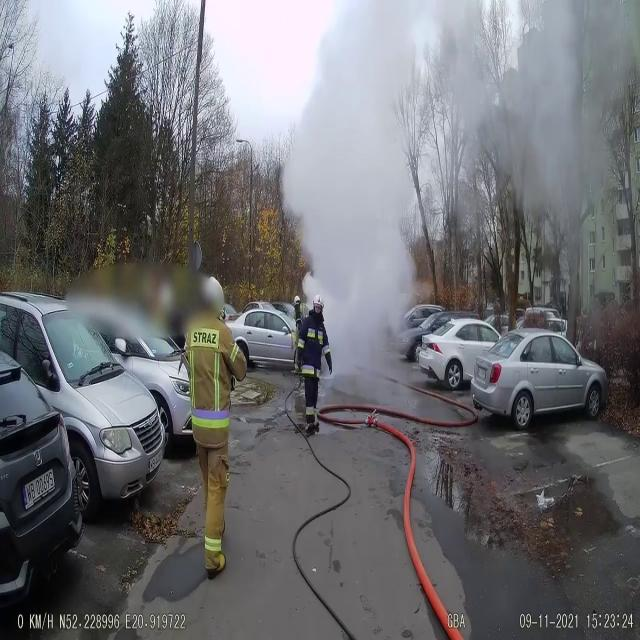Smoke: (275, 2, 424, 380), (453, 1, 635, 268)
